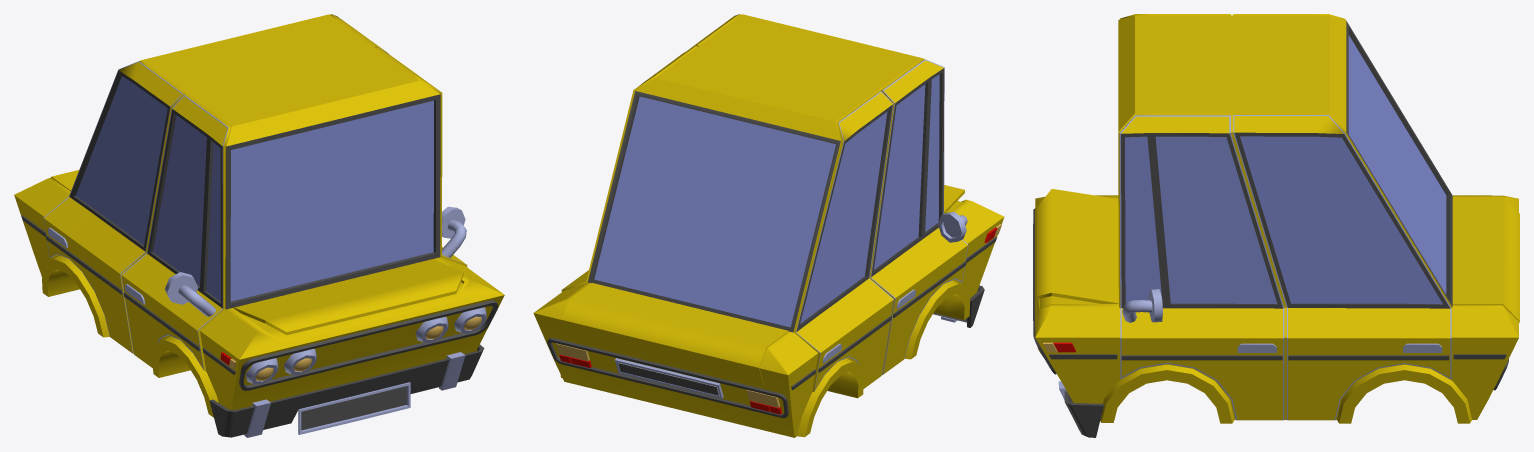
File: SquareCar.fbx
The picture shows the model from 3 angles, left to right: view 1: azimuth 30°, elevation 25°; view 2: azimuth 150°, elevation 25°; view 3: azimuth 270°, elevation 25°; orthographic projection. The views are drawn at different scales.
Visible parts, largest first — view 1: Square Car; view 2: Square Car; view 3: Square Car.
Boxes of the visible parts, x1,y1,x2,y2 form: Square Car: (14, 14, 504, 437); Square Car: (533, 14, 1004, 437); Square Car: (1033, 14, 1519, 437).
Bounding box in the file's own units: 227 × 216 × 300.
